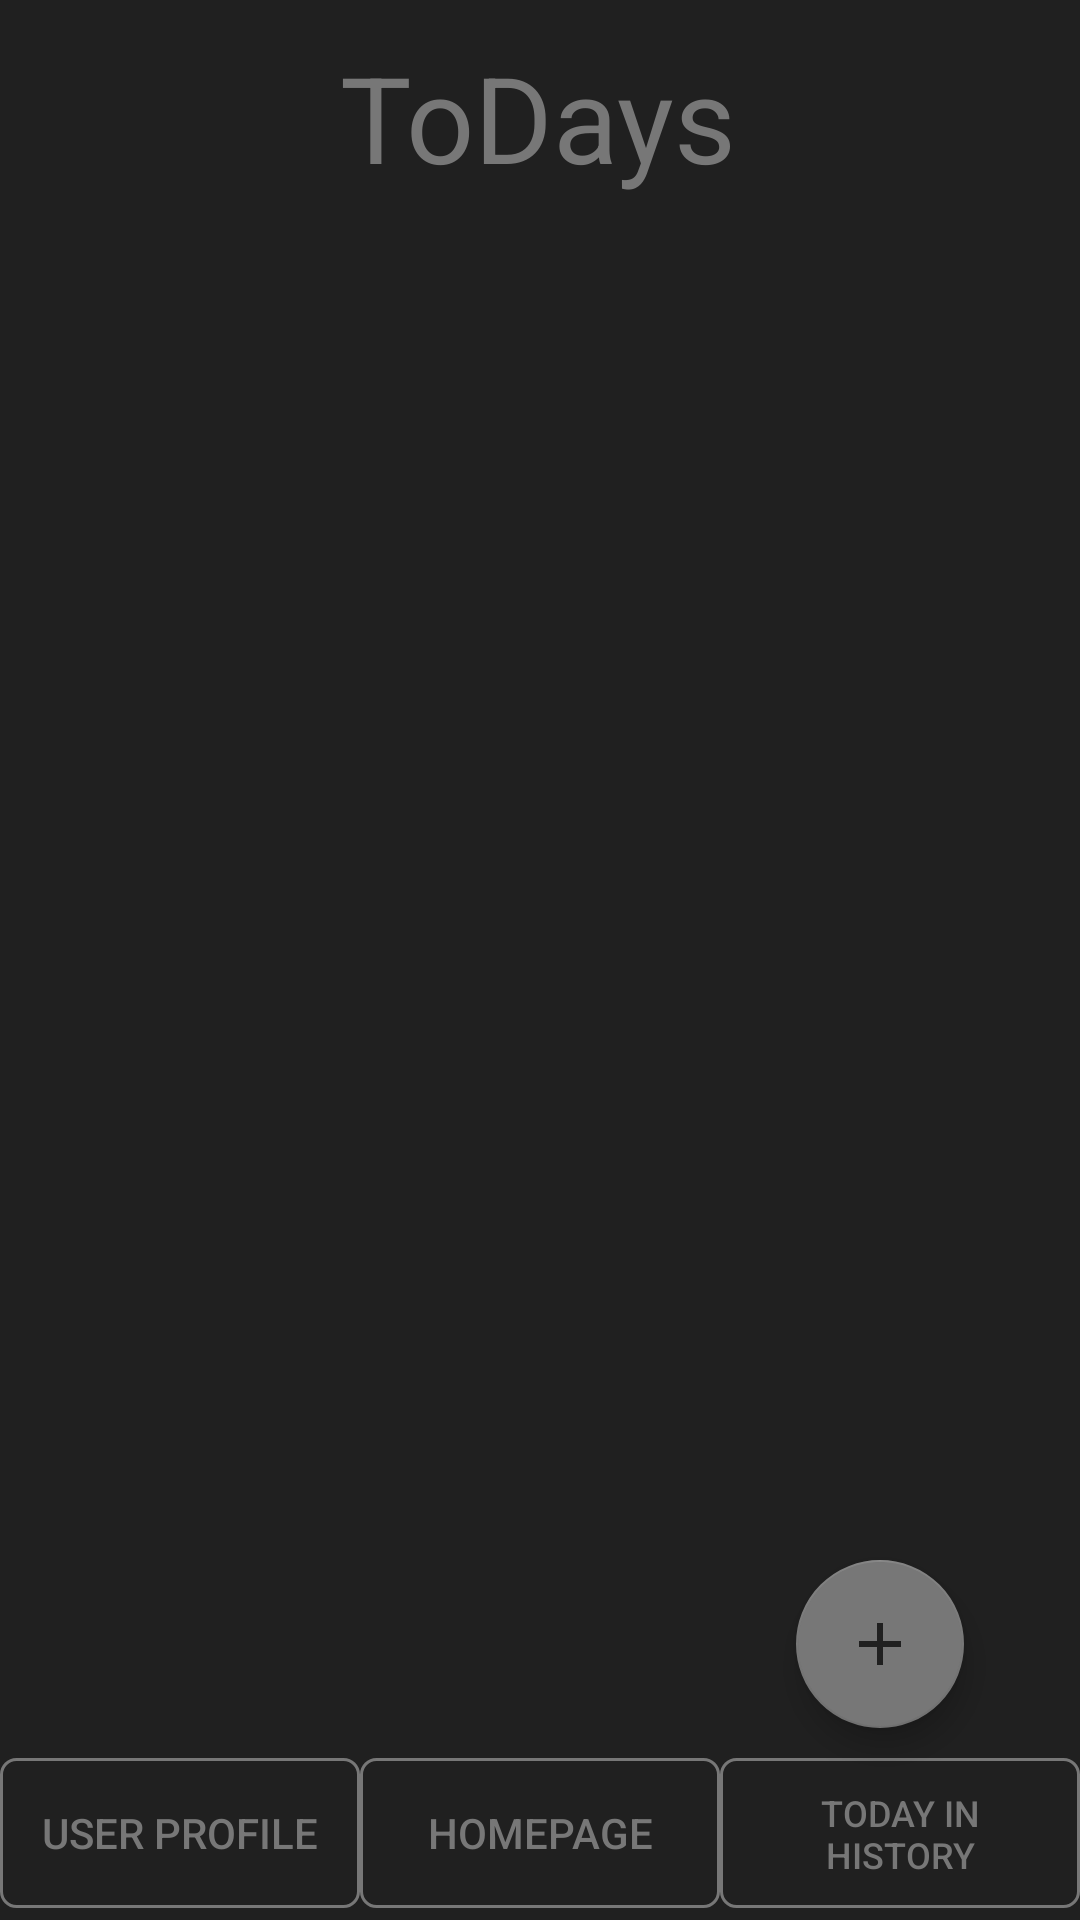

Icons on this 1080w x 1920h Android screen, each with its box as (x1, y1, x2, y2):
add: (796, 1560, 964, 1728)
